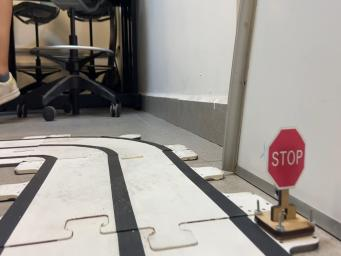stop: (255, 127, 314, 238)
street: (0, 137, 289, 255)
